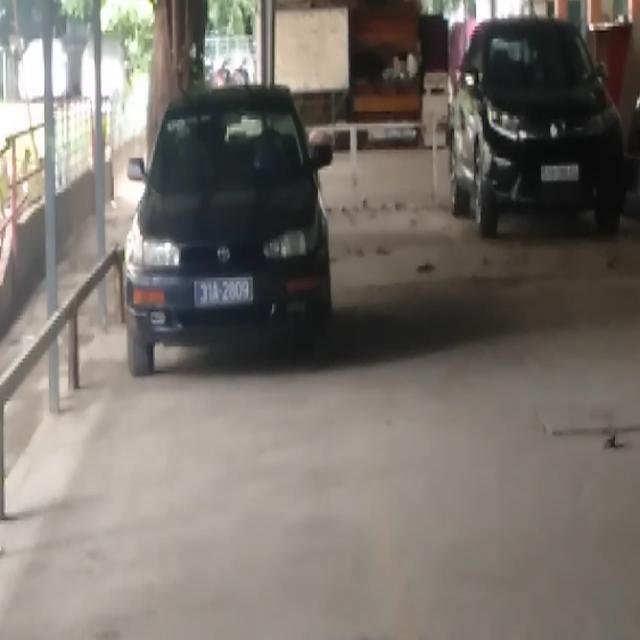bien_xanh: (193, 278, 253, 305)
